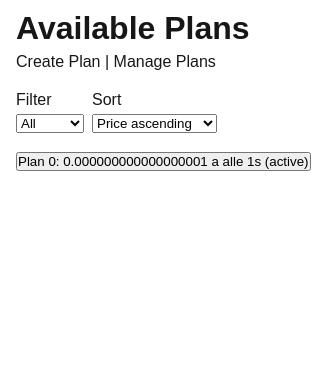
Test case: Plans page › renders list of plans and shows details
Click the button "Plan 0: 0.000000000000000001 a alle 1s (active)".
click(163, 161)  # box [16, 152, 310, 171]
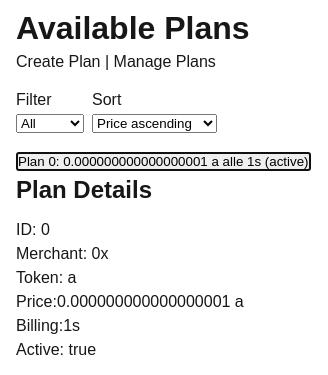
Expected: the element with test id "plan-details" is shown, [16, 176, 244, 358]
Expected: the list item "Price:0.000000000000000001 a" is shown, [16, 293, 244, 310]
Expected: the list item "Billing:1s" is shown, [16, 317, 80, 334]
